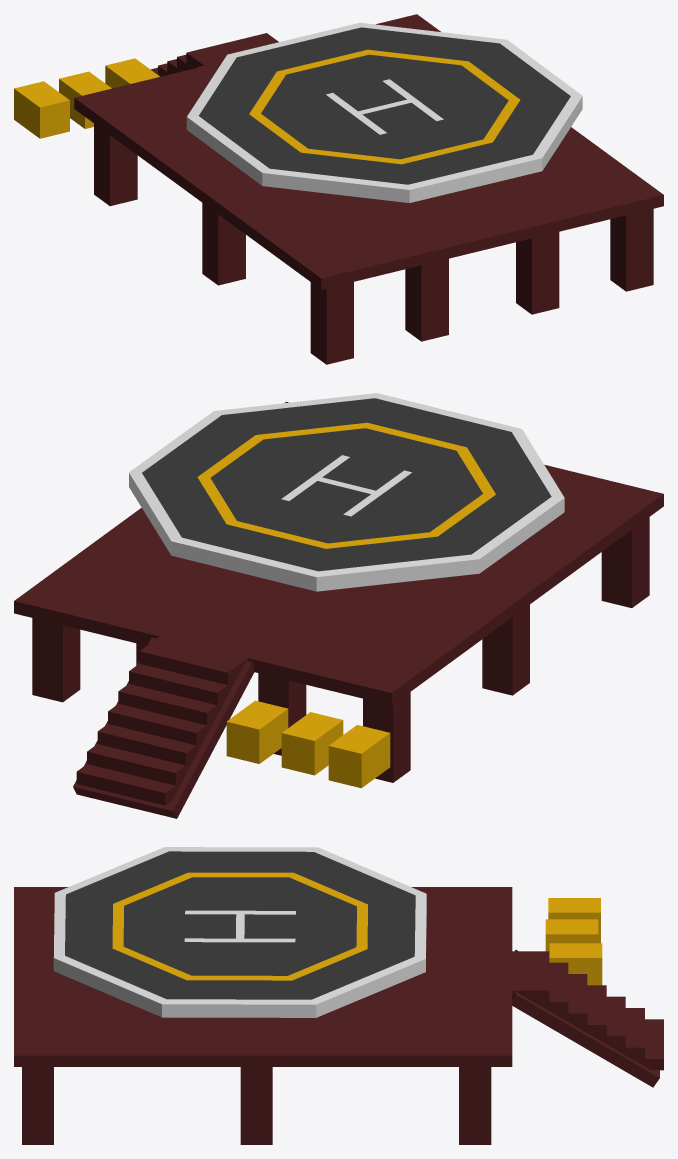
3 renders of one model, top to bottom at view 1: azimuth 30°, elevation 25°; view 2: azimuth 150°, elevation 25°; view 3: azimuth 270°, elevation 25°, orthographic. The views are drawn at different scales.
Visible parts, largest first — view 1: Cylinder.067, Cube.077, Cube.067, Cylinder.068, Cube.068, Cube.078, Cube.069, Cube.079, Cube.080; view 2: Cube.077, Cylinder.067, Cylinder.068, Cube.067, Cube.076, Cube.078, Cube.069, Cube.080, Cube.079, Cube.071, Cube.073, Cube.070 (+4 smaller); view 3: Cube.077, Cylinder.067, Cylinder.068, Cube.067, Cube.076, Cube.069, Cube.080, Cube.079, Cube.078, Cube.070, Cube.072, Cube.073 (+3 smaller).
Boxes of the visible parts, left/top/right/bottom form: Cylinder.067: left=199, top=27, right=570, bottom=184; Cube.077: left=74, top=14, right=663, bottom=289; Cube.067: left=94, top=123, right=653, bottom=364; Cylinder.068: left=186, top=22, right=582, bottom=202; Cube.068: left=405, top=232, right=559, bottom=341; Cube.078: left=14, top=81, right=69, bottom=138; Cube.069: left=186, top=33, right=278, bottom=68; Cube.079: left=59, top=71, right=111, bottom=128; Cube.080: left=105, top=58, right=159, bottom=88; Cube.077: left=14, top=401, right=663, bottom=705; Cylinder.067: left=142, top=398, right=551, bottom=571; Cylinder.068: left=129, top=393, right=564, bottom=591; Cube.067: left=32, top=517, right=649, bottom=782; Cube.076: left=73, top=637, right=254, bottom=818; Cube.078: left=328, top=725, right=390, bottom=788; Cube.069: left=139, top=636, right=247, bottom=685; Cube.080: left=226, top=700, right=288, bottom=763; Cube.079: left=281, top=712, right=343, bottom=775; Cube.071: left=118, top=684, right=224, bottom=725; Cube.073: left=97, top=724, right=203, bottom=765; Cube.070: left=129, top=663, right=235, bottom=705; Cube.077: left=14, top=887, right=512, bottom=1066; Cylinder.067: left=65, top=851, right=415, bottom=999; Cylinder.068: left=53, top=847, right=426, bottom=1017; Cube.067: left=22, top=1067, right=491, bottom=1144; Cube.076: left=512, top=950, right=659, bottom=1087; Cube.069: left=512, top=951, right=549, bottom=1001; Cube.080: left=549, top=943, right=602, bottom=985; Cube.079: left=545, top=919, right=598, bottom=962; Cube.078: left=548, top=898, right=600, bottom=943; Cube.070: left=534, top=962, right=568, bottom=1013; Cube.072: left=573, top=985, right=606, bottom=1036; Cube.073: left=593, top=996, right=625, bottom=1047.
Bounding box in the file's own units: 878 × 329 × 1363.
